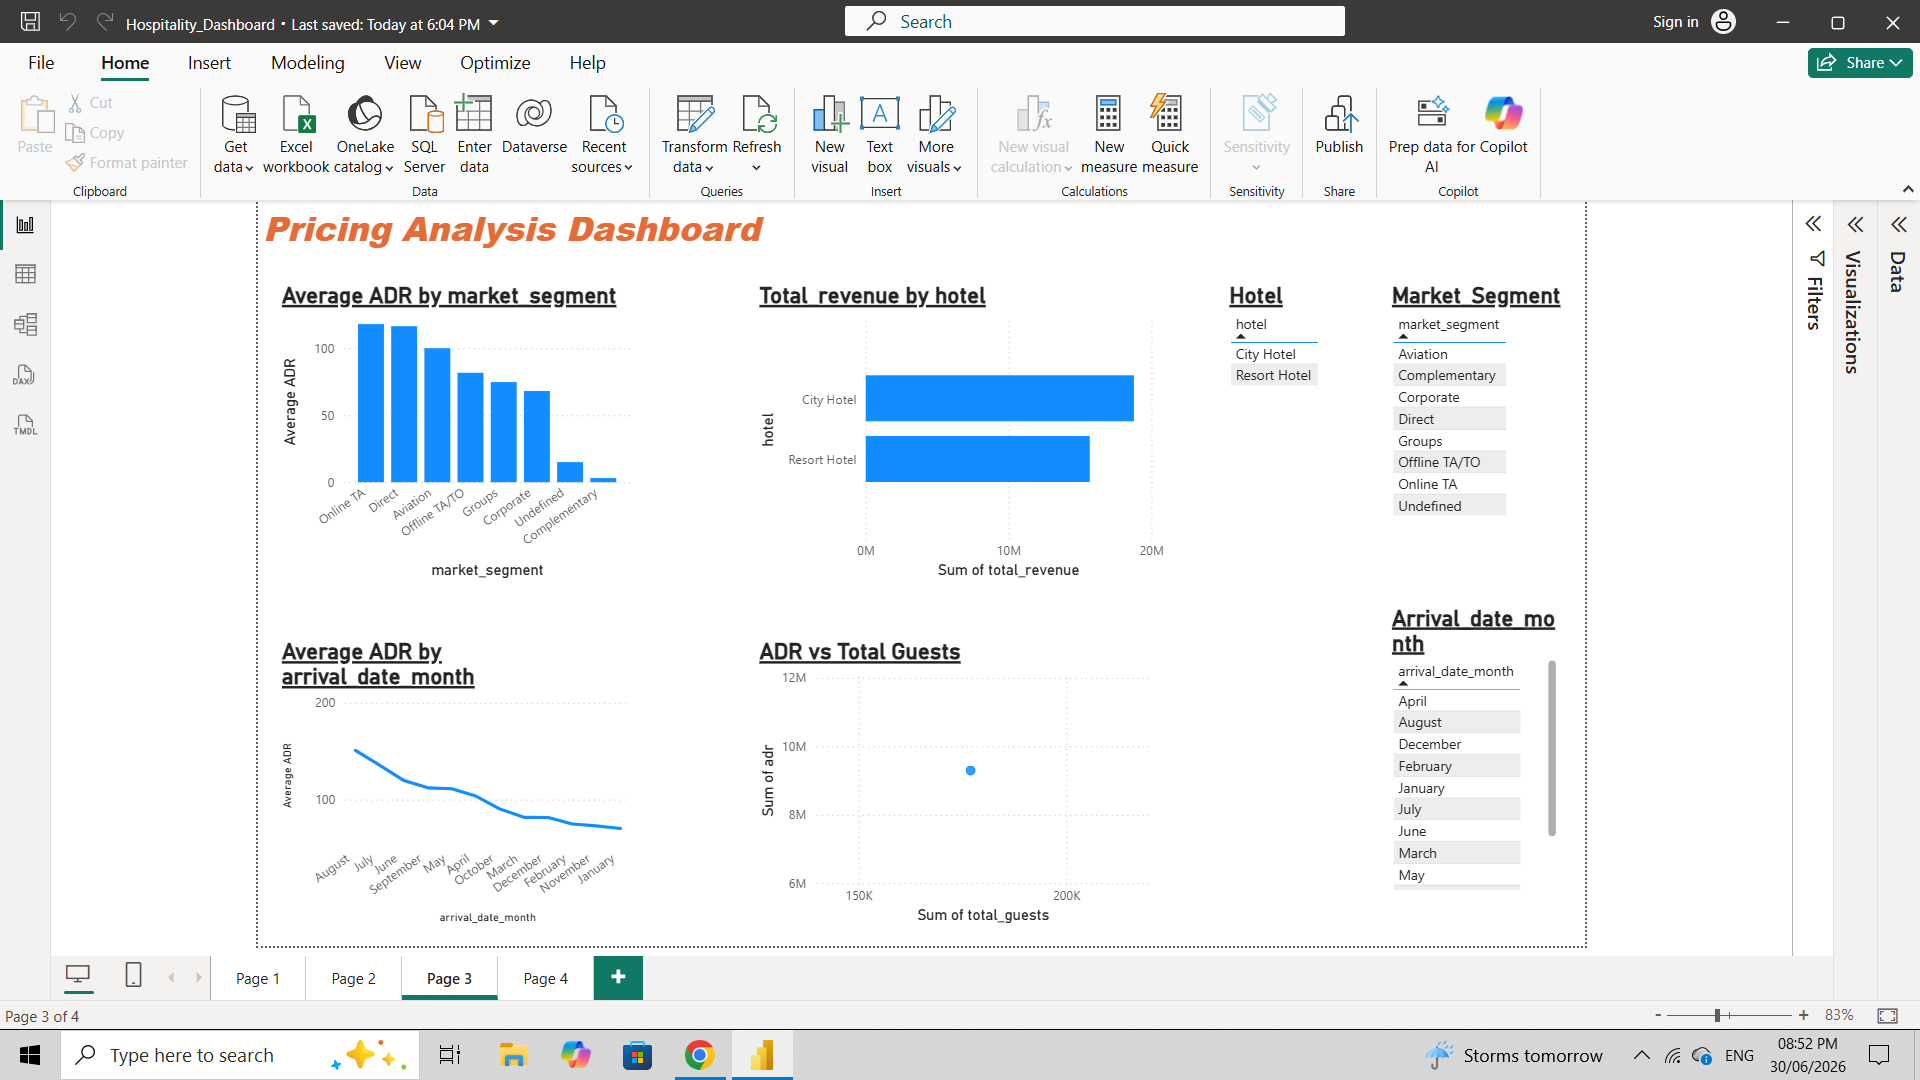

This screenshot's page, from the dashboard's own definition file:
{"tool":"powerbi","page":{"name":"Page 3","canvas":[1280,720],"ordinal":2},"visuals":[{"type":"columnChart","fields":{"Category":["cleaned_hotel_booking_dataset.market_segment"],"Y":["cleaned_hotel_booking_dataset.Average ADR"]},"box":[111,82,346.2,290.8],"z":0},{"type":"lineChart","fields":{"Category":["cleaned_hotel_booking_dataset.arrival_date_month"],"Y":["cleaned_hotel_booking_dataset.Average ADR"]},"box":[111,423.5,346.2,279.9],"z":1000},{"type":"barChart","title":"Total_revenue by hotel","fields":{"Category":["cleaned_hotel_booking_dataset.hotel"],"Y":["Sum(cleaned_hotel_booking_dataset.total_revenue)"]},"box":[639.4,82,400.5,290.8],"z":2000},{"type":"scatterChart","title":"ADR vs Total Guests","fields":{"X":["Sum(cleaned_hotel_booking_dataset.total_guests)"],"Y":["Sum(cleaned_hotel_booking_dataset.adr)"]},"box":[639.4,423.5,400.5,279.9],"z":3000},{"type":"textbox","box":[0,0,626.1,56.7],"z":3001}]}

Visuals, with their boxes on the page's 1280x720 design canvas (x1, y1, x2, y2). These are canvas units, not pixel positions in the 1920x1080 screenshot, which may show the page scaled, cropped or inside an application window:
columnChart - cleaned_hotel_booking_dataset.market_segment x cleaned_hotel_booking_dataset.Average ADR: crop(111, 82, 457, 373)
lineChart - cleaned_hotel_booking_dataset.arrival_date_month x cleaned_hotel_booking_dataset.Average ADR: crop(111, 424, 457, 703)
"Total_revenue by hotel" barChart: crop(639, 82, 1040, 373)
"ADR vs Total Guests" scatterChart: crop(639, 424, 1040, 703)
textbox: crop(0, 0, 626, 57)
